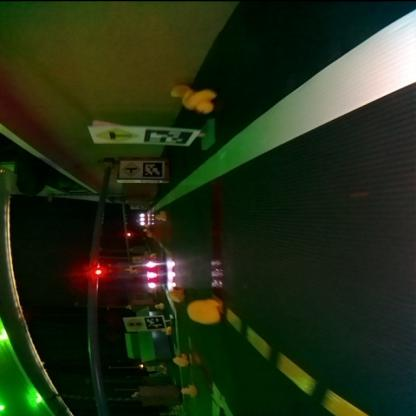Duckie: (186, 300, 218, 324), (189, 90, 216, 113), (169, 85, 195, 104), (168, 287, 184, 303), (180, 386, 196, 398), (172, 354, 186, 366), (162, 326, 171, 334), (155, 212, 165, 219), (155, 304, 162, 310)
Duckiebot: (144, 260, 164, 288), (138, 214, 146, 225)
Intersection sign: (94, 128, 138, 142), (120, 161, 140, 177)
QR code: (145, 130, 195, 146), (143, 161, 163, 176), (146, 316, 164, 329)
Signal sign: (126, 318, 142, 331)
Traffic light: (90, 266, 104, 276), (125, 232, 132, 236)
